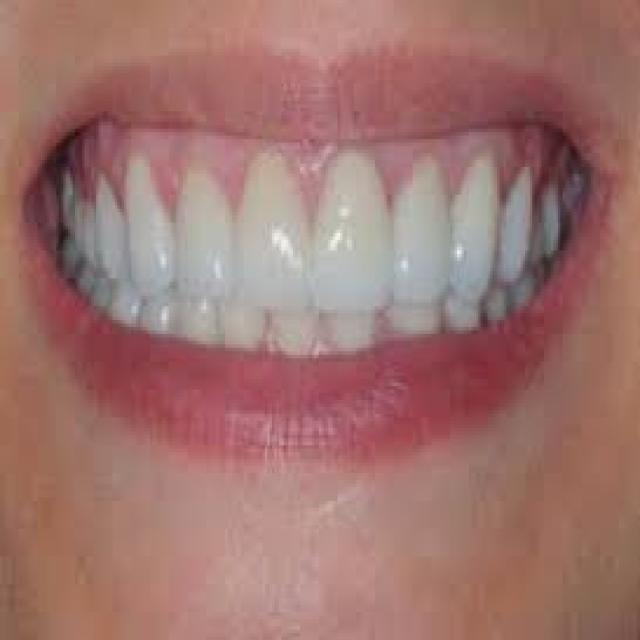tooth: (312, 146, 389, 313), (237, 153, 307, 310), (178, 174, 237, 296), (122, 167, 183, 278), (394, 160, 443, 292), (450, 156, 490, 288), (504, 160, 528, 271), (319, 309, 370, 348), (394, 292, 438, 334), (101, 192, 122, 278), (180, 292, 220, 334), (225, 302, 260, 348), (143, 296, 185, 330), (277, 313, 314, 351), (113, 282, 143, 323), (58, 174, 78, 229), (539, 192, 560, 244), (443, 296, 488, 320), (82, 209, 99, 261), (516, 275, 537, 299)
